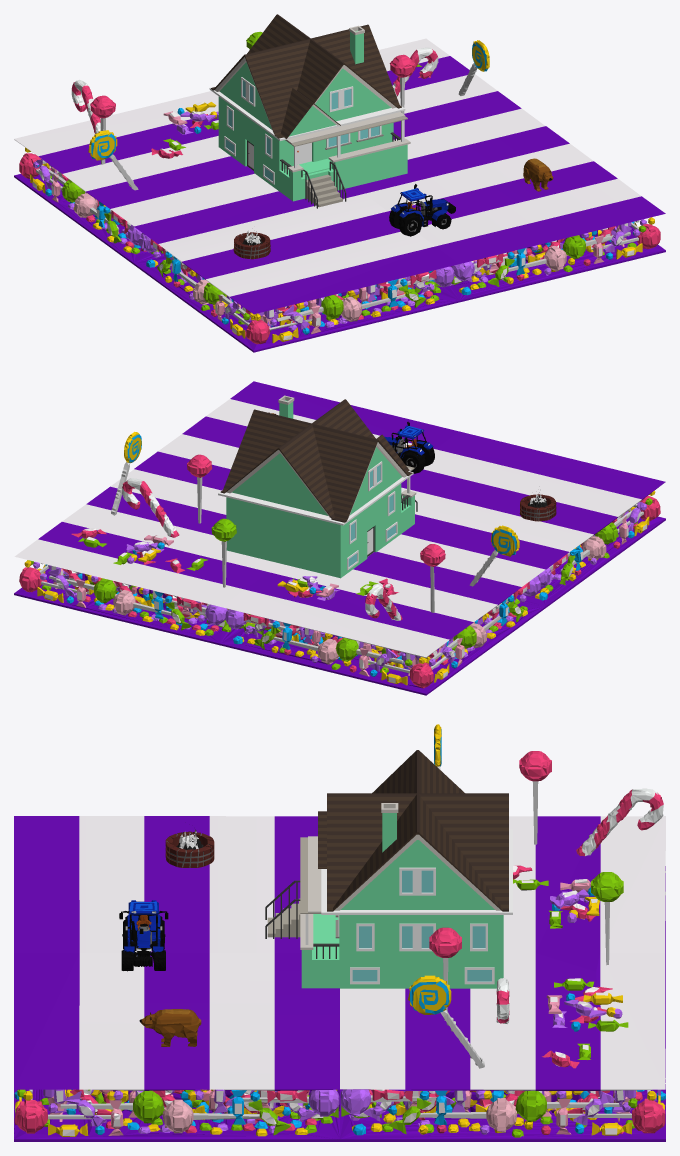
3 renders of one model, top to bottom at view 1: azimuth 30°, elevation 25°; view 2: azimuth 150°, elevation 25°; view 3: azimuth 270°, elevation 25°, orthographic. The views are drawn at different scales.
Parts seen in each view (by area): view 1: TERRAIN_CANDY, Cube.352, VEHICLES_TRACTOR, OBJRANDOM_CAMPFIRE, ANIMAL_OSO; view 2: TERRAIN_CANDY, Cube.352, VEHICLES_TRACTOR, OBJRANDOM_CAMPFIRE; view 3: TERRAIN_CANDY, Cube.352, VEHICLES_TRACTOR, OBJRANDOM_CAMPFIRE, ANIMAL_OSO.
Boxes of the visible parts, bbox=[...] form: TERRAIN_CANDY: bbox=[14, 31, 665, 352]; Cube.352: bbox=[209, 14, 410, 208]; VEHICLES_TRACTOR: bbox=[389, 184, 455, 236]; OBJRANDOM_CAMPFIRE: bbox=[233, 230, 270, 259]; ANIMAL_OSO: bbox=[523, 158, 553, 191]; TERRAIN_CANDY: bbox=[14, 381, 665, 695]; Cube.352: bbox=[218, 395, 417, 578]; VEHICLES_TRACTOR: bbox=[384, 421, 434, 473]; OBJRANDOM_CAMPFIRE: bbox=[519, 492, 556, 521]; TERRAIN_CANDY: bbox=[14, 724, 665, 1141]; Cube.352: bbox=[265, 750, 512, 988]; VEHICLES_TRACTOR: bbox=[119, 900, 168, 971]; OBJRANDOM_CAMPFIRE: bbox=[165, 829, 214, 867]; ANIMAL_OSO: bbox=[139, 1009, 201, 1046].
Bounding box in the file's own units: 4059 × 1584 × 4000.
Materials: 28 (2 with a texture image).
